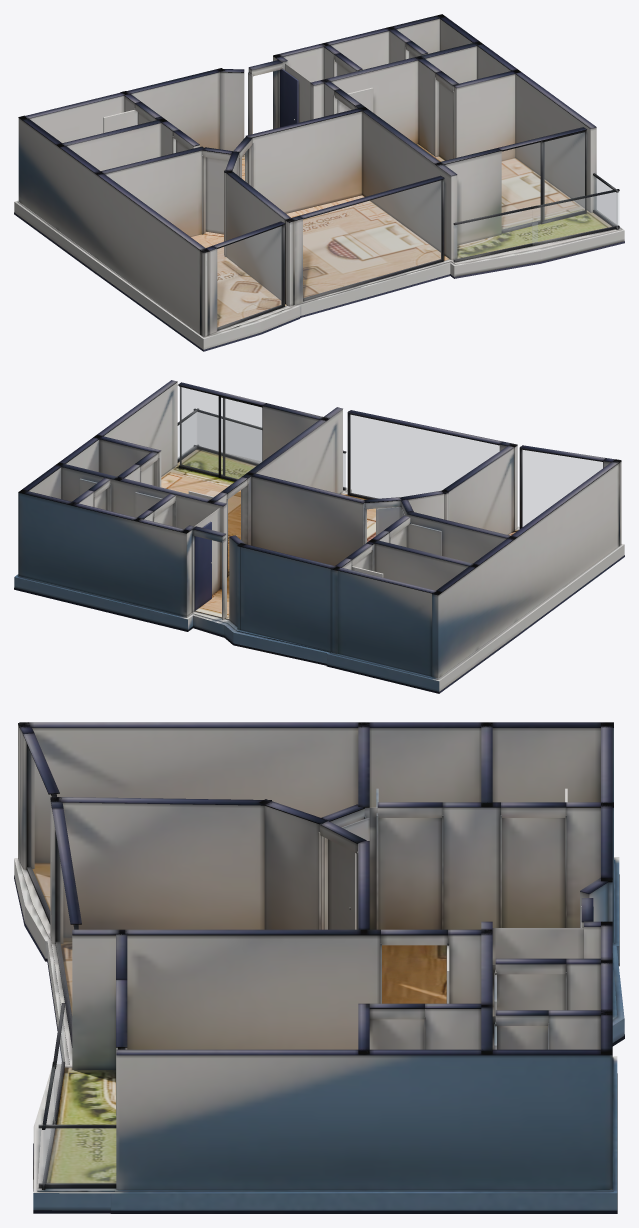
The picture shows the model from 3 angles, top to bottom: view 1: azimuth 30°, elevation 25°; view 2: azimuth 150°, elevation 25°; view 3: azimuth 270°, elevation 25°; orthographic projection. The views are drawn at different scales.
Parts seen in each view (by area): view 1: plan, glass1_m, glass2_m, glass0_m, railg1_m, railg2_m, railg0_m; view 2: plan, glass1_m, glass2_m, glass0_m, railg1_m, railg0_m; view 3: plan, railg0_m, glass0_m, glass1_m.
Part boxes in pixels (x1=…): plan: x1=14, y1=14, x2=624, y2=351; glass1_m: x1=303, y1=180, x2=441, y2=298; glass2_m: x1=502, y1=132, x2=584, y2=230; glass0_m: x1=217, y1=226, x2=281, y2=327; railg1_m: x1=532, y1=192, x2=618, y2=243; railg2_m: x1=454, y1=208, x2=537, y2=259; railg0_m: x1=594, y1=176, x2=617, y2=226; plan: x1=14, y1=380, x2=624, y2=693; glass1_m: x1=350, y1=415, x2=499, y2=498; glass2_m: x1=179, y1=387, x2=261, y2=478; glass0_m: x1=522, y1=450, x2=602, y2=526; railg1_m: x1=197, y1=412, x2=261, y2=463; railg0_m: x1=178, y1=413, x2=196, y2=459; plan: x1=14, y1=722, x2=624, y2=1213; railg0_m: x1=39, y1=1128, x2=115, y2=1183; glass0_m: x1=29, y1=750, x2=51, y2=915; glass1_m: x1=58, y1=851, x2=73, y2=1027.
Bounding box in the file's own units: 12.05 × 2.62 × 9.24.
2 materials, 1 textured.
